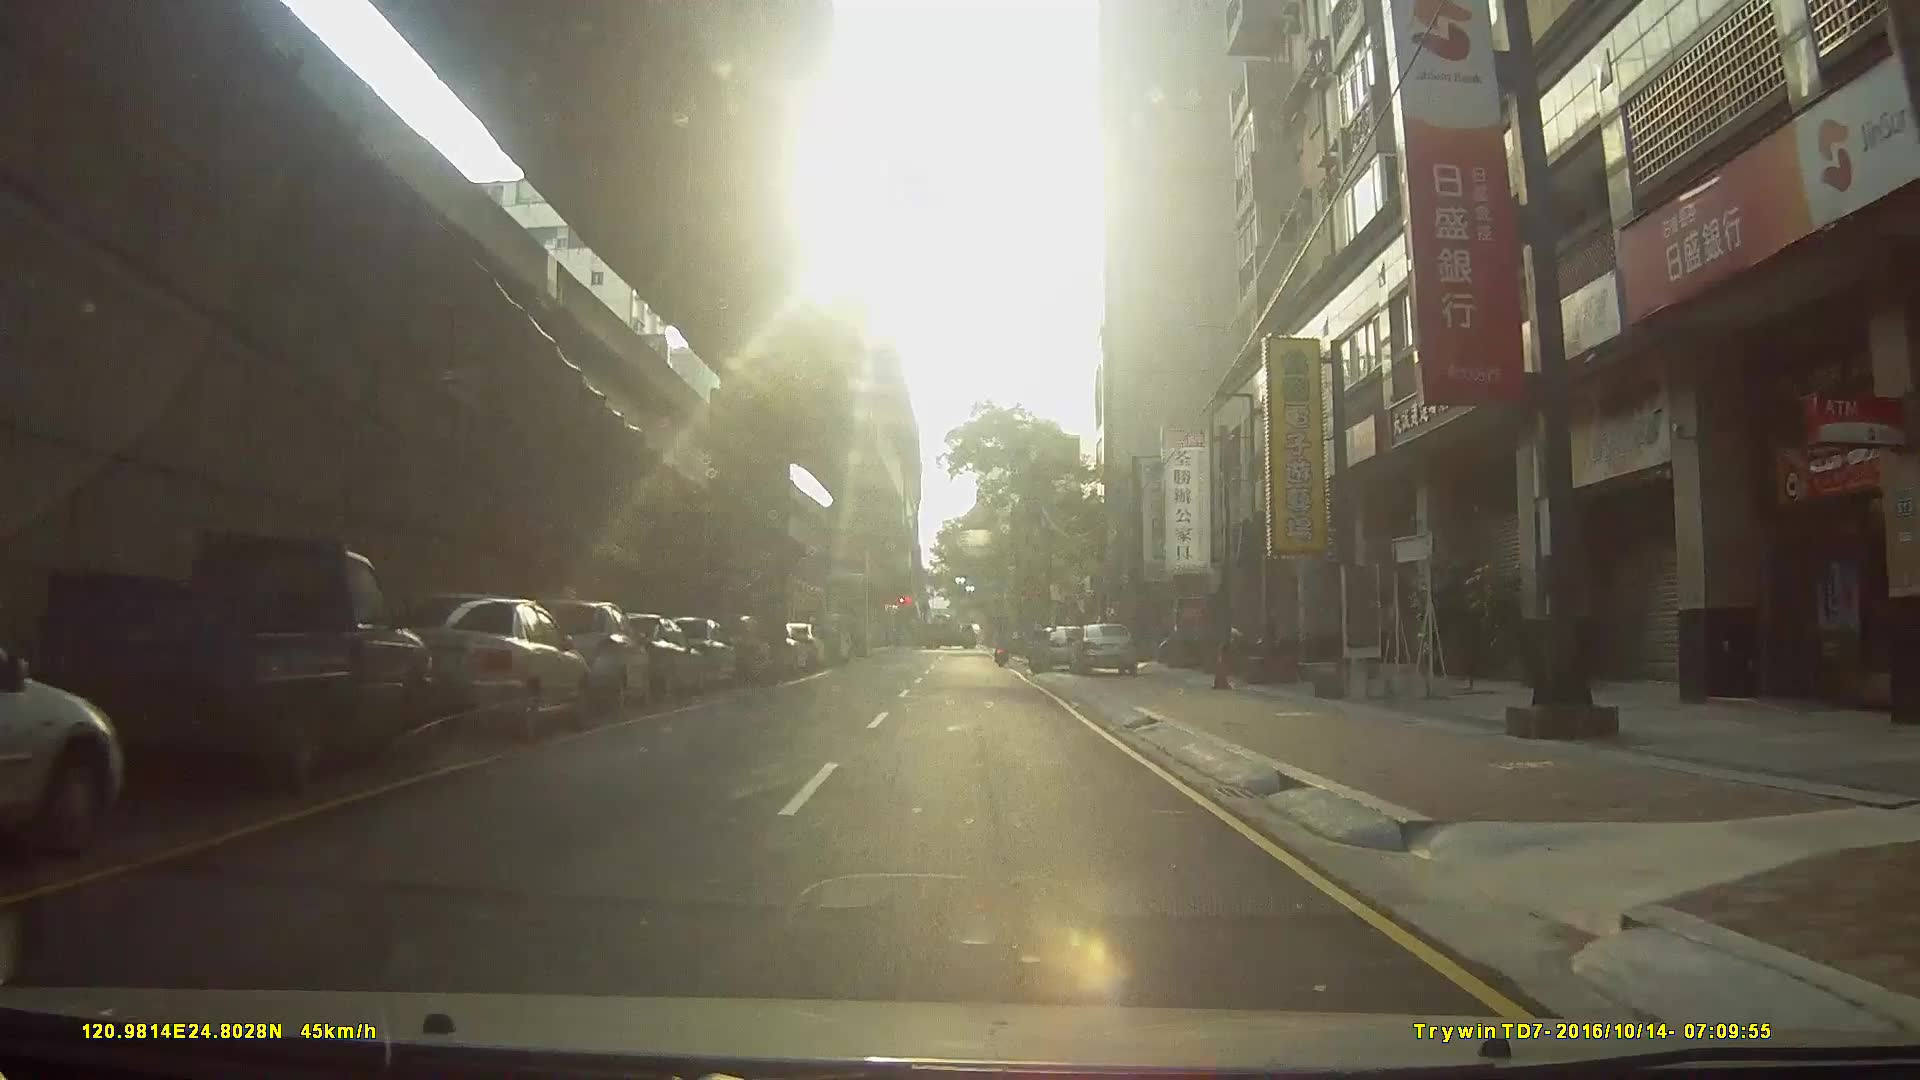vehicle: (33, 527, 444, 800), (1, 637, 164, 860), (361, 589, 587, 742), (508, 595, 647, 716), (587, 609, 699, 705), (655, 612, 736, 687), (695, 611, 771, 684), (1065, 618, 1142, 675), (1026, 622, 1091, 673), (914, 611, 986, 647)
